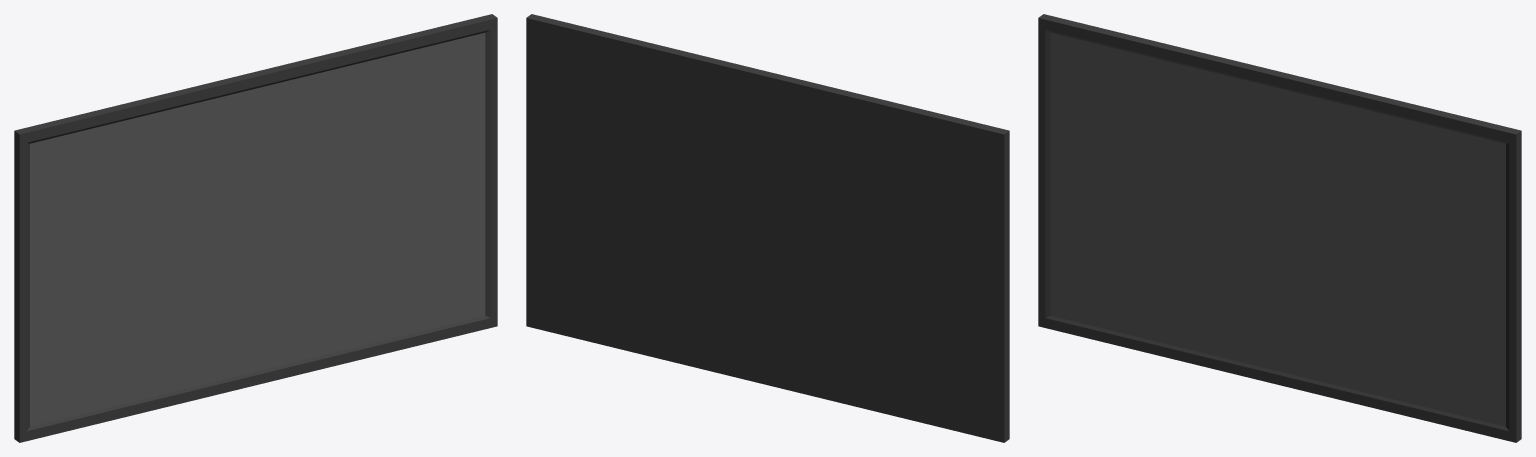
3 renders of one model, left to right at view 1: azimuth 30°, elevation 25°; view 2: azimuth 150°, elevation 25°; view 3: azimuth 330°, elevation 25°, orthographic.
Visible parts, largest first — view 1: TV_3; view 2: TV_3; view 3: TV_3.
Boxes of the visible parts, x1=… form: TV_3: x1=14, y1=14, x2=497, y2=442; TV_3: x1=526, y1=14, x2=1009, y2=442; TV_3: x1=1038, y1=14, x2=1521, y2=442.
Bounding box in the file's own units: 341 × 6.69 × 210.
